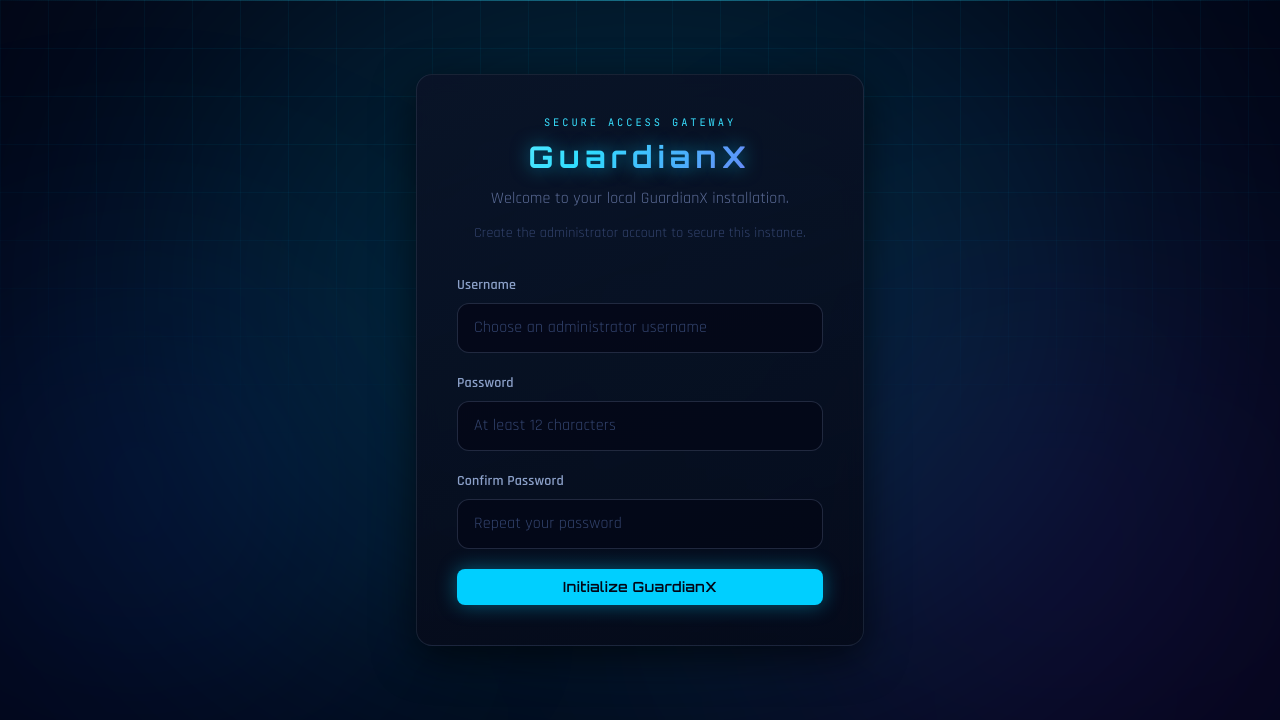
Test: Setup › rejects a password mismatch
The width and height of the screenshot is (1280, 720).
In the field labelled "Username": coordinates (640, 328) [457,303,823,353], type "admin"
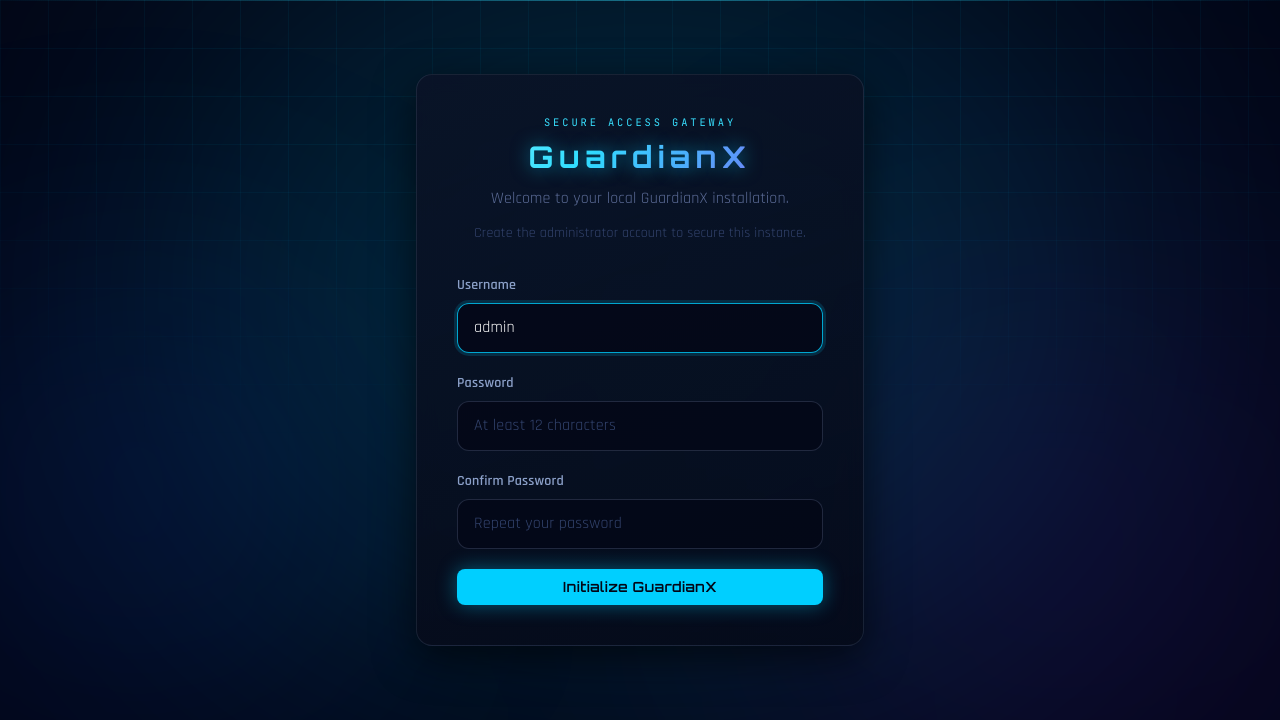
In the password field labelled "Password": coordinates (640, 426) [457,401,823,451], type "Sup3rStrongPassword1!"
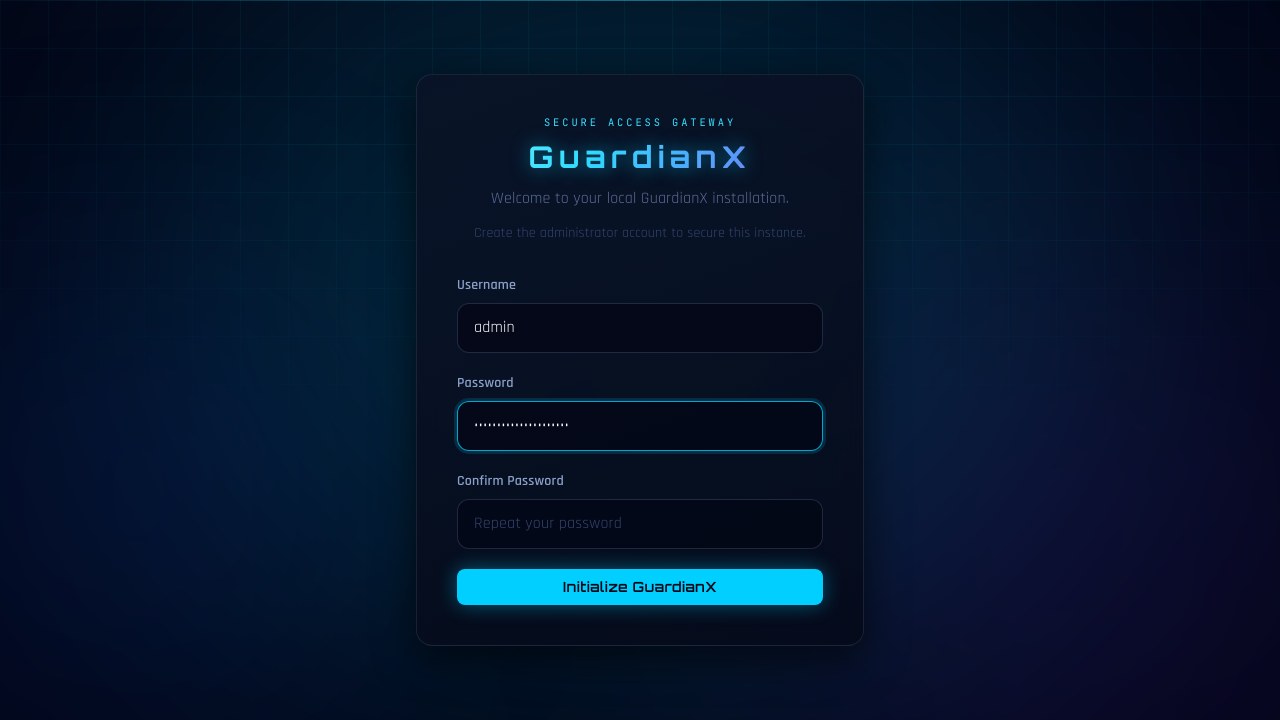
In the password field labelled "Confirm Password": coordinates (640, 524) [457,499,823,549], type "different"
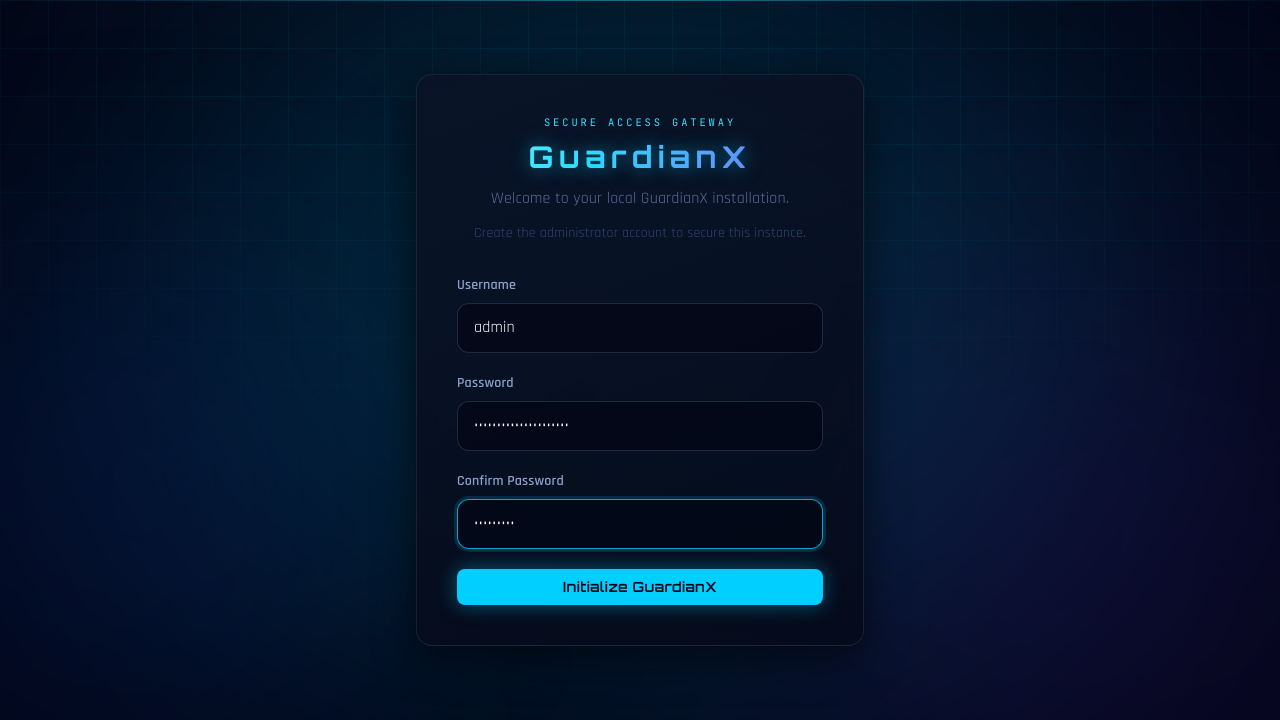
Click the button "Initialize GuardianX": coordinates (640, 587) [457,569,823,605]
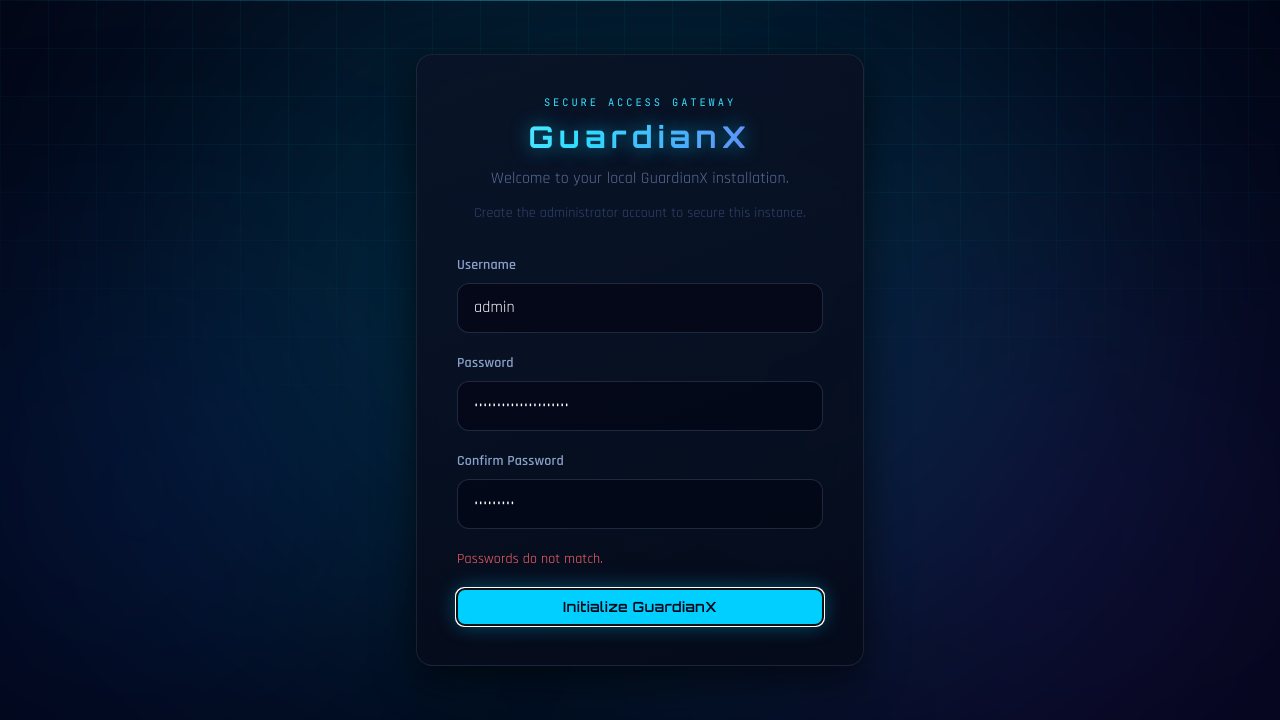
Expected: the text "Passwords do not match." is shown, [457,550,603,568]
